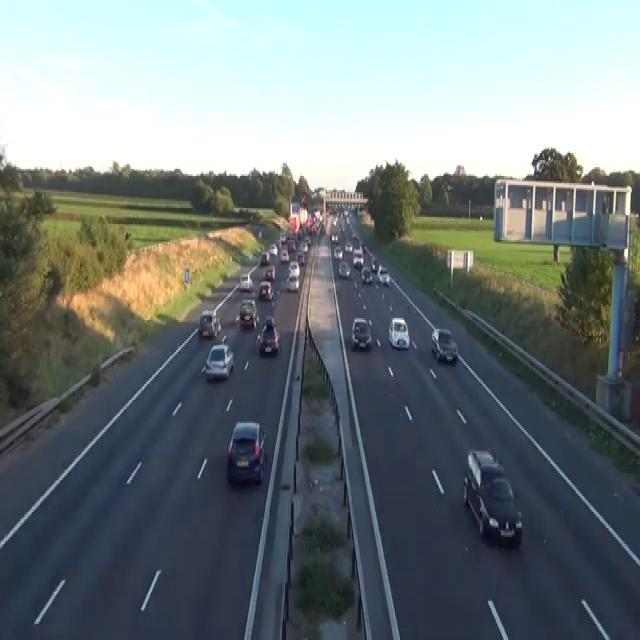Car: (463, 448, 522, 548), (227, 420, 267, 486), (463, 448, 504, 507), (204, 343, 234, 381), (431, 327, 458, 363), (257, 322, 279, 356), (388, 316, 410, 348), (237, 297, 259, 329), (351, 316, 371, 351), (198, 309, 221, 338), (258, 281, 273, 300), (239, 272, 252, 292), (286, 272, 299, 292), (377, 265, 390, 284), (338, 260, 351, 279), (288, 260, 300, 278), (352, 249, 363, 268), (361, 265, 372, 283), (265, 265, 276, 281), (333, 243, 343, 260), (268, 242, 278, 256), (265, 315, 276, 327), (260, 251, 269, 265), (280, 249, 289, 263), (296, 251, 304, 265), (279, 231, 287, 244), (287, 238, 295, 251), (313, 208, 321, 220), (299, 242, 308, 252), (344, 240, 352, 251), (124, 229, 131, 240), (371, 260, 377, 272), (331, 233, 338, 243), (305, 237, 311, 246), (258, 230, 262, 238)
